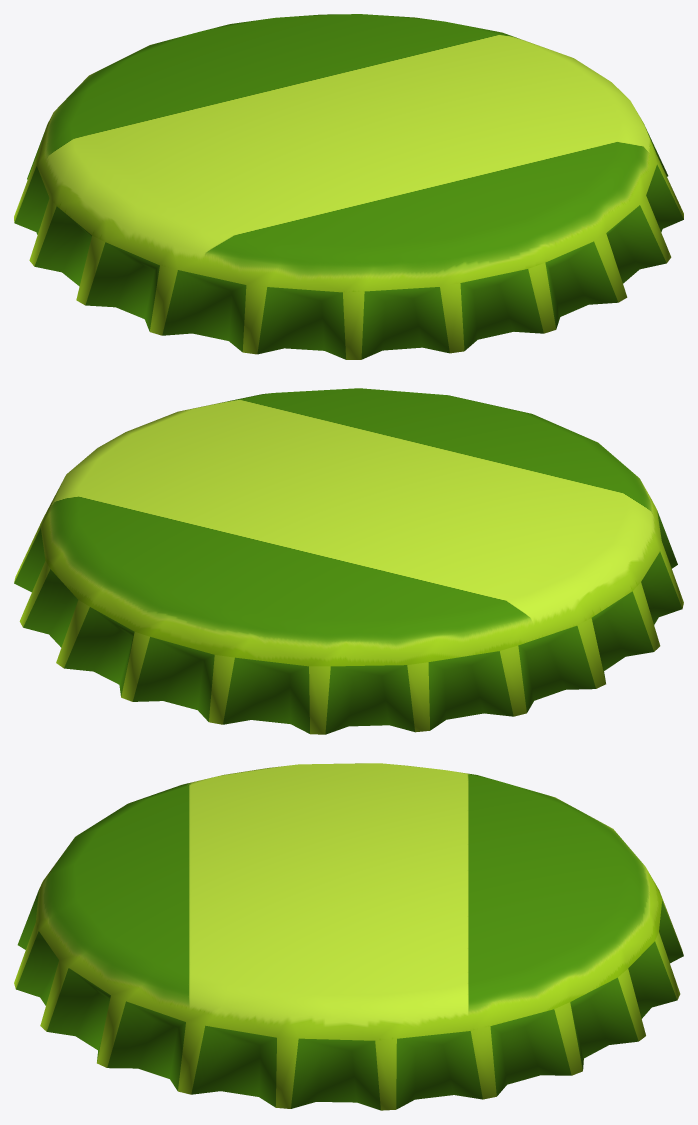
File: cap.fbx
3 renders of one model, top to bottom at view 1: azimuth 30°, elevation 25°; view 2: azimuth 150°, elevation 25°; view 3: azimuth 270°, elevation 25°, orthographic.
Visible parts, largest first — view 1: Object_5; view 2: Object_5; view 3: Object_5.
Part boxes in pixels (x1,y1,x2,y2): Object_5: [14, 14, 683, 359]; Object_5: [14, 388, 683, 734]; Object_5: [14, 763, 683, 1110].
Size of the model in its own units: 185 by 27.16 by 186.
Materials: 1 (1 with a texture image).
